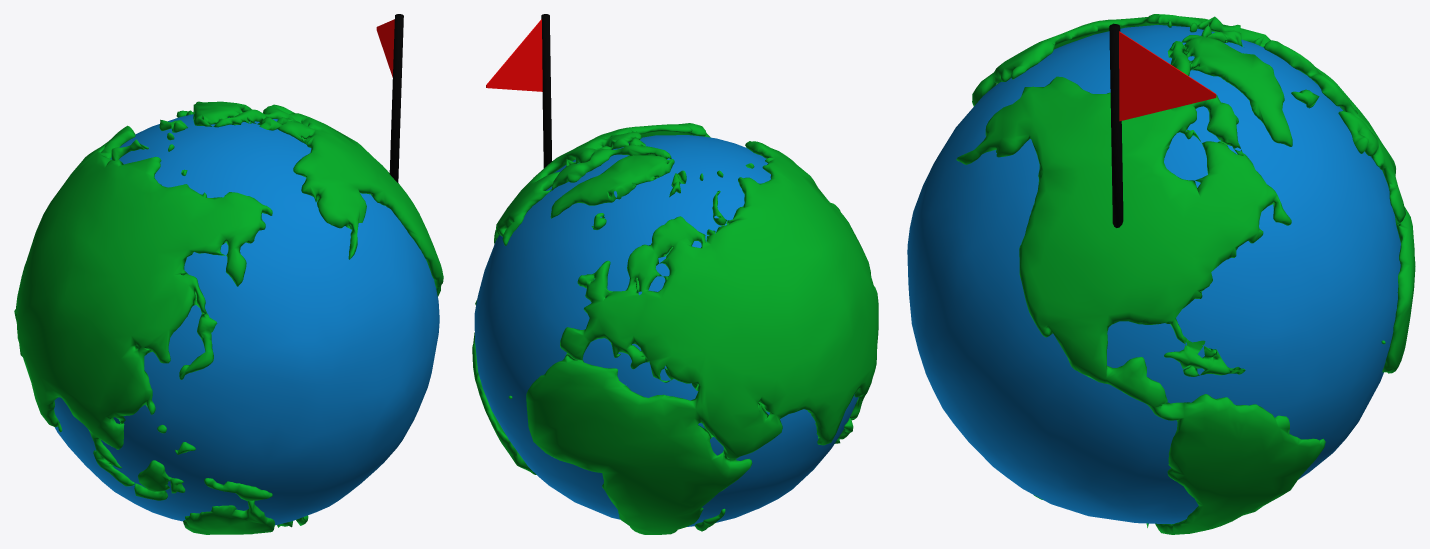
Rendered from earth-round.glb.
3 renders of one model, left to right at view 1: azimuth 30°, elevation 25°; view 2: azimuth 150°, elevation 25°; view 3: azimuth 270°, elevation 25°, orthographic. The views are drawn at different scales.
Parts seen in each view (by area): view 1: low_poly_earth, low_poly_earth.001, Cylinder, Plane; view 2: low_poly_earth.001, low_poly_earth, Plane, Cylinder; view 3: low_poly_earth, low_poly_earth.001, Plane, Cylinder.
Boxes of the visible parts, left/top/right/bottom form: low_poly_earth: left=54, top=114, right=439, bottom=525; low_poly_earth.001: left=14, top=101, right=443, bottom=534; Cylinder: left=389, top=14, right=403, bottom=182; Plane: left=376, top=19, right=394, bottom=77; low_poly_earth.001: left=472, top=123, right=878, bottom=534; low_poly_earth: left=474, top=135, right=858, bottom=526; Plane: left=486, top=19, right=542, bottom=91; Cylinder: left=541, top=14, right=551, bottom=168; low_poly_earth: left=907, top=25, right=1400, bottom=524; low_poly_earth.001: left=956, top=14, right=1415, bottom=534; Plane: left=1119, top=31, right=1216, bottom=121; Cylinder: left=1109, top=24, right=1123, bottom=227.
Size of the model in its own units: 3.36 by 4.1 by 3.29.
